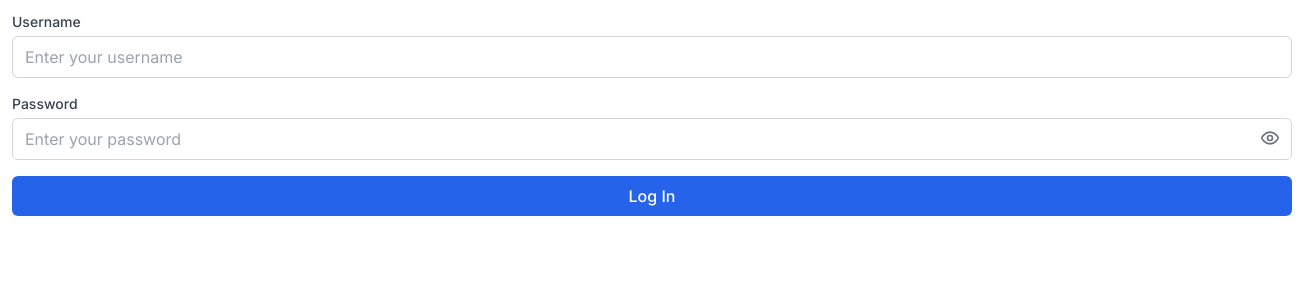
Scenario: LoginForm › should validate required fields
What coordinates should you click on to do the following:
click the button "Log In"
I would click on:
 (652, 196)
Its box is x1=12 y1=176 x2=1292 y2=216.
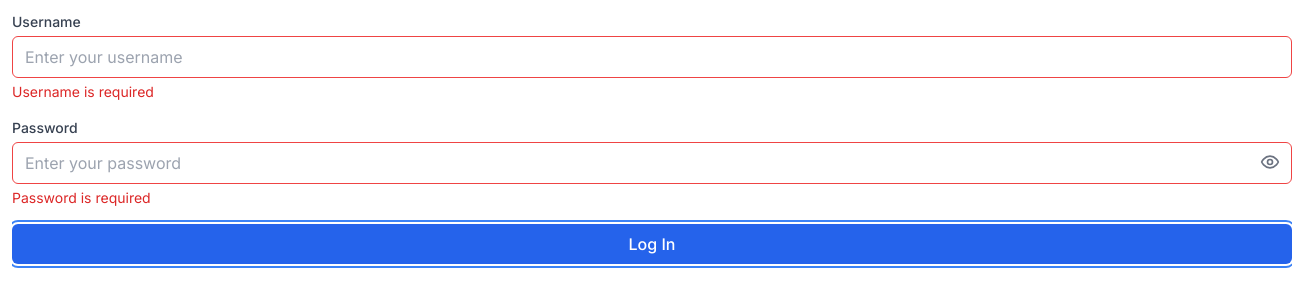
Result: the text "Username is required" is shown at x1=12 y1=83 x2=154 y2=100
Result: the text "Password is required" is shown at x1=12 y1=189 x2=151 y2=206
